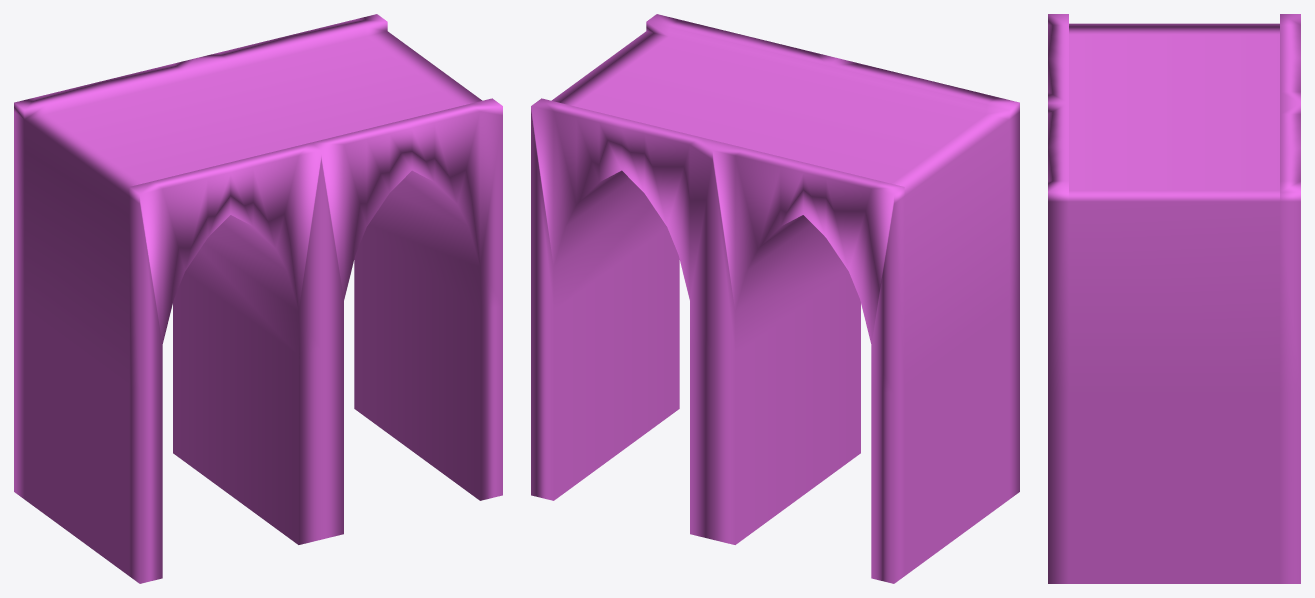
The model's file is RD_Arch_x2_Tall.fbx.
The picture shows the model from 3 angles, left to right: view 1: azimuth 30°, elevation 25°; view 2: azimuth 150°, elevation 25°; view 3: azimuth 270°, elevation 25°; orthographic projection.
Parts seen in each view (by area): view 1: Mesh; view 2: Mesh; view 3: Mesh.
Part boxes in pixels (left/top/right/bottom): Mesh: left=14, top=14, right=502, bottom=583; Mesh: left=531, top=14, right=1019, bottom=583; Mesh: left=1048, top=14, right=1300, bottom=583.
Bounding box in the file's own units: 800 × 820 × 480.
